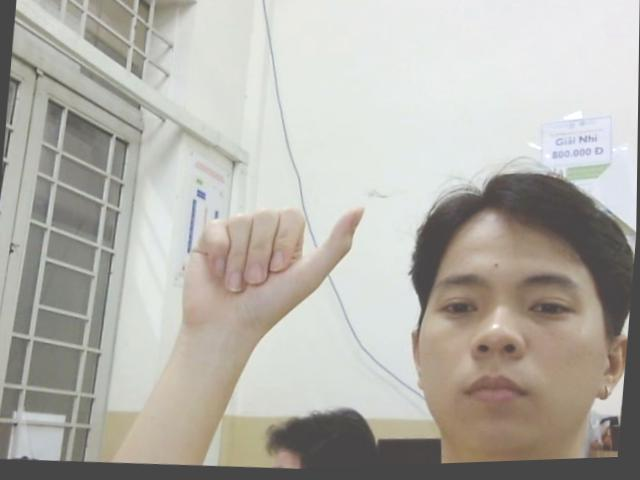A: (180, 200, 374, 341)
